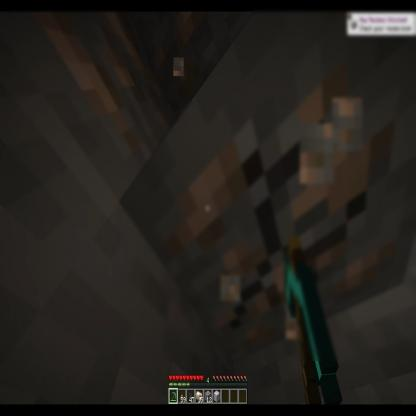iron ore: (120, 0, 416, 361), (7, 0, 178, 210), (128, 0, 253, 101)
